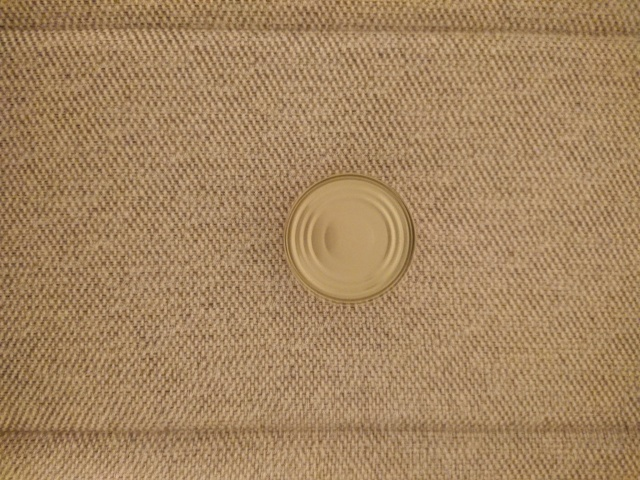Podravka Luncheon Meat 150g: (279, 170, 418, 308)
